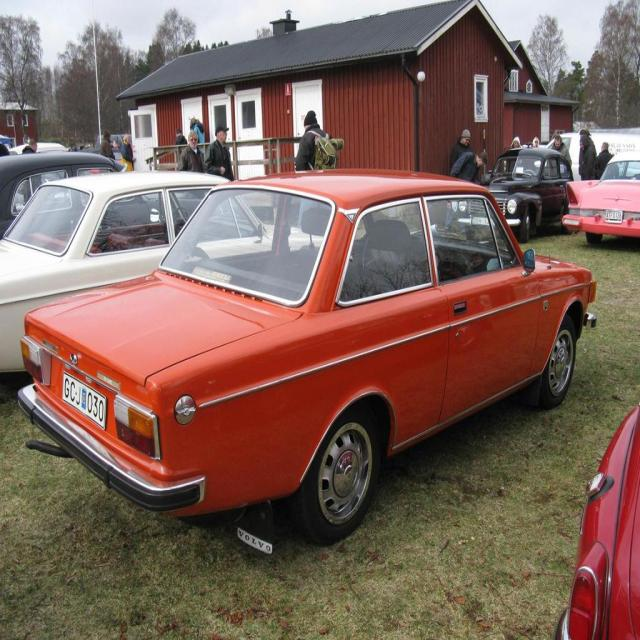car: (20, 177, 572, 546)
